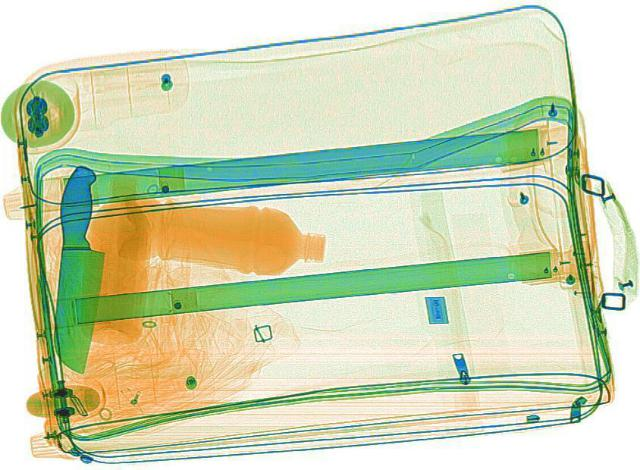Knife: (49, 164, 109, 371)
